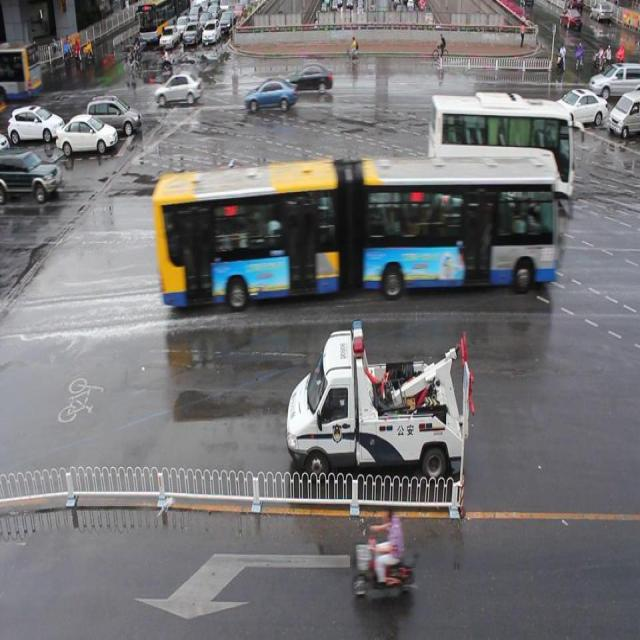car: (479, 180, 544, 243), (546, 85, 607, 127), (245, 79, 296, 113), (286, 64, 332, 96)
van: (162, 154, 552, 288), (426, 95, 570, 204)
